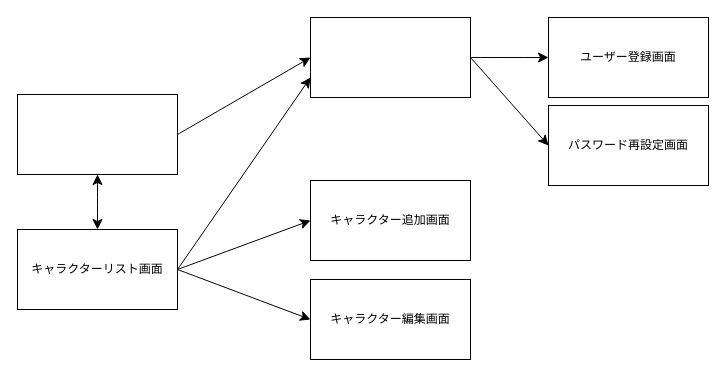
This 726x377 diagram has some shape labels left out. The shapes that lost their labels are listed below. From the top down, each one's centre as x and y in pixels, then its label:
the point at 390,57: ログイン画面
the point at 97,134: カレンダー画面
